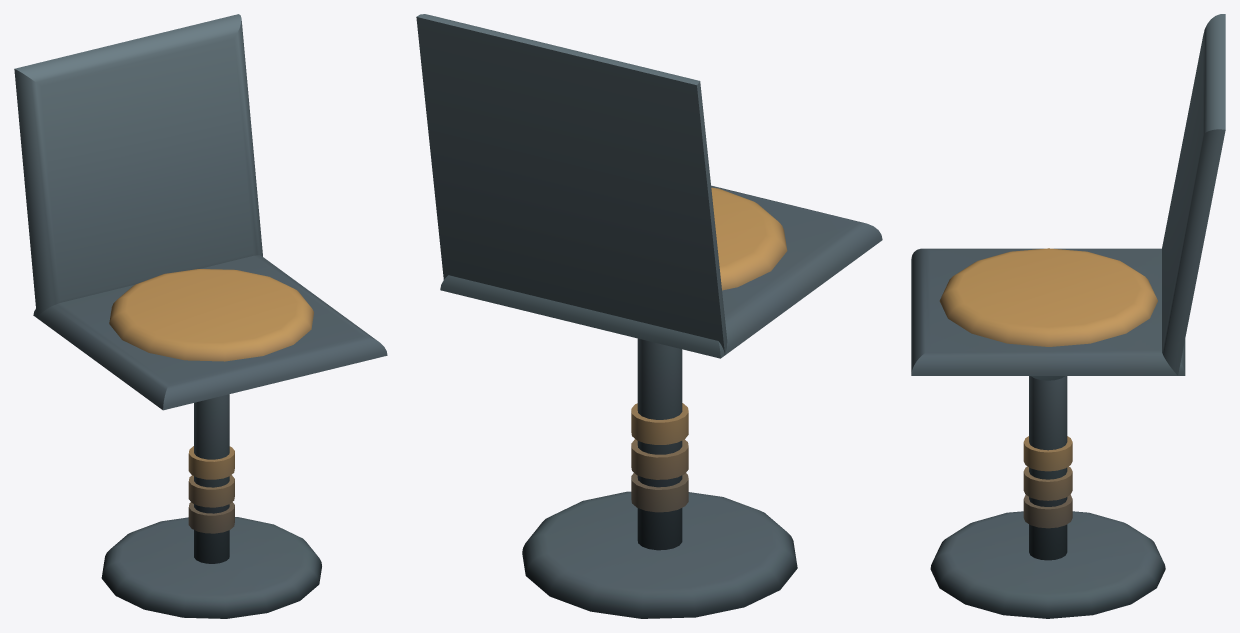
The model's file is Chair.fbx.
3 views of the same model, side by side, from view 1: azimuth 30°, elevation 25°; view 2: azimuth 150°, elevation 25°; view 3: azimuth 270°, elevation 25° (orthographic). The views are drawn at different scales.
Parts seen in each view (by area): view 1: Chair; view 2: Chair; view 3: Chair.
Boxes of the visible parts, box(x1,y1,x2,y2) form: Chair: box(14, 14, 387, 618); Chair: box(416, 14, 882, 618); Chair: box(911, 14, 1225, 618).
Bounding box in the file's own units: 0.5 × 0.5734 × 1.
